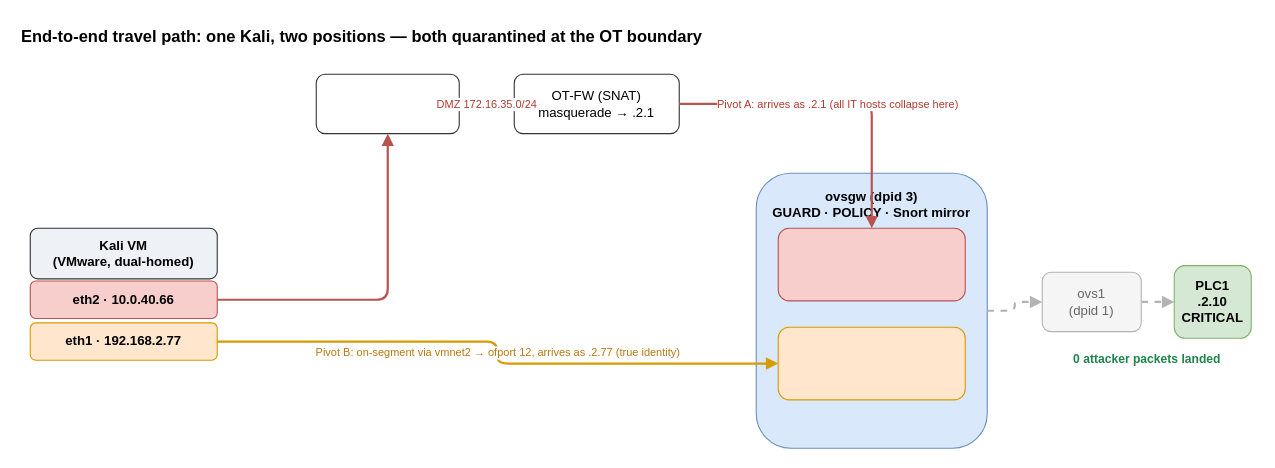
Some shapes in this 1275 by 468 pixel diagram are drawn without their labels. Each missing label, with the box of its shape:
Ent-FW 10.0.40.1: (315, 73, 459, 134)
✕ 0xca ISOLATE nw_src = 192.168.2.1 coarse — whole gateway: (777, 227, 965, 301)
✕ 0xca ISOLATE nw_src = 192.168.2.77 fine — the real host: (777, 326, 965, 400)
